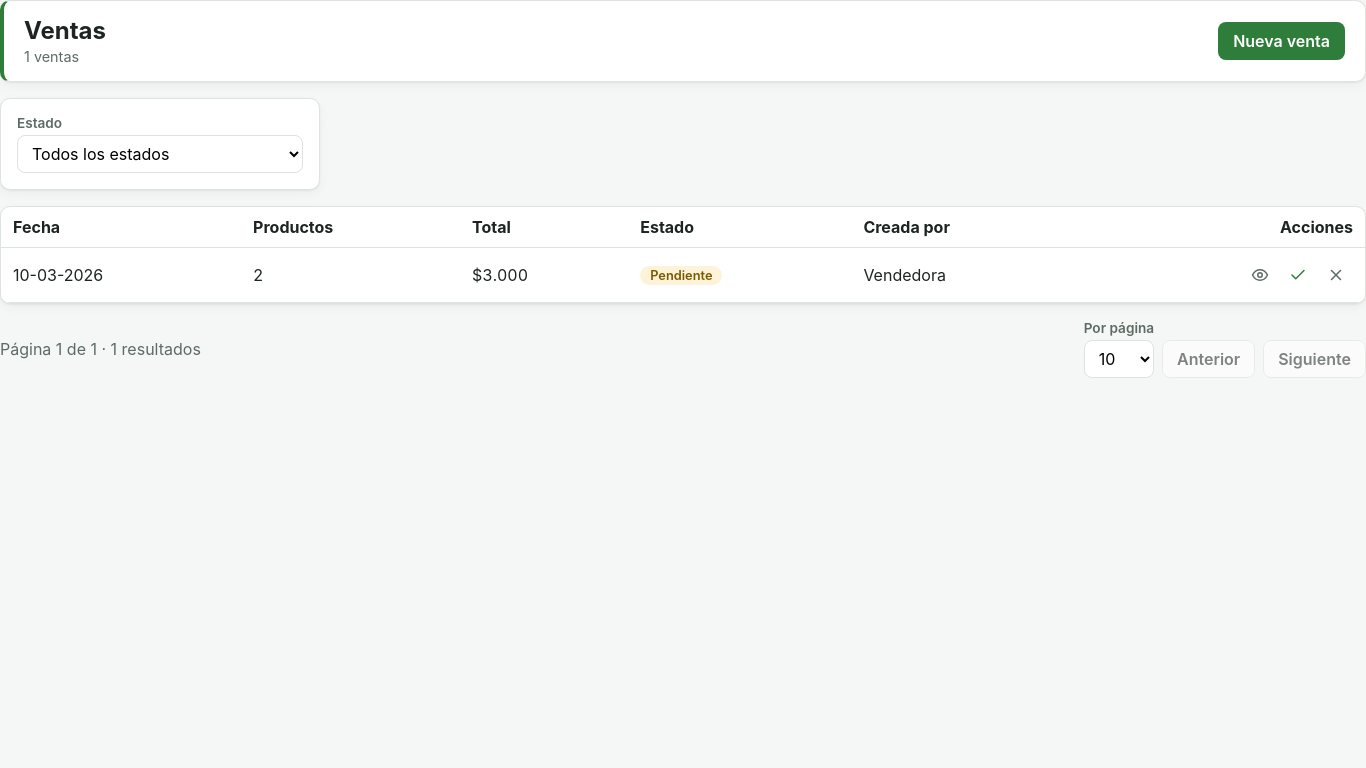
it: SalesPage › keeps the popup open and explains the error when the sale cannot be completed
This screenshot has width=1366, height=768.
Click the button named "Completar venta" at (1298, 275), box 1281,258 -> 1315,292
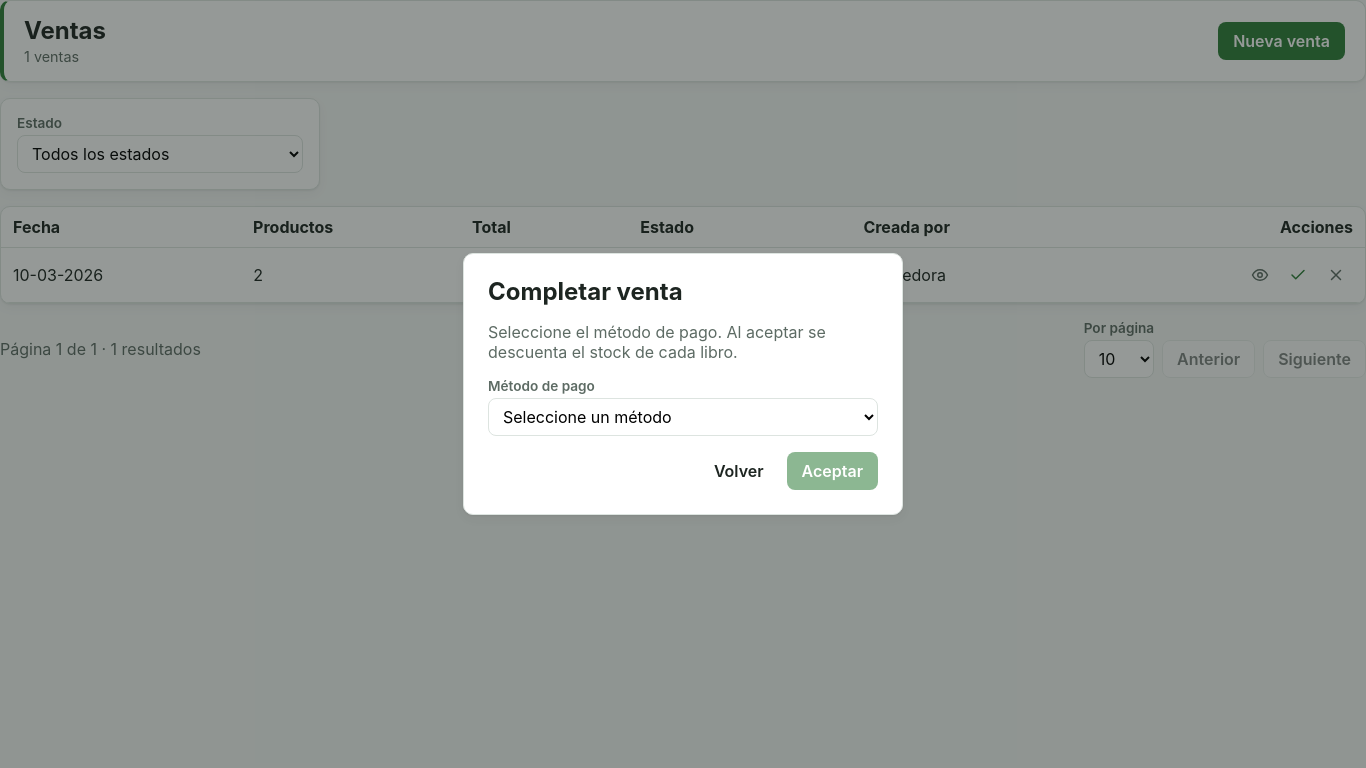
Select "Efectivo" in the dropdown labelled "Método de pago" at (683, 417), box 488,398 -> 878,436
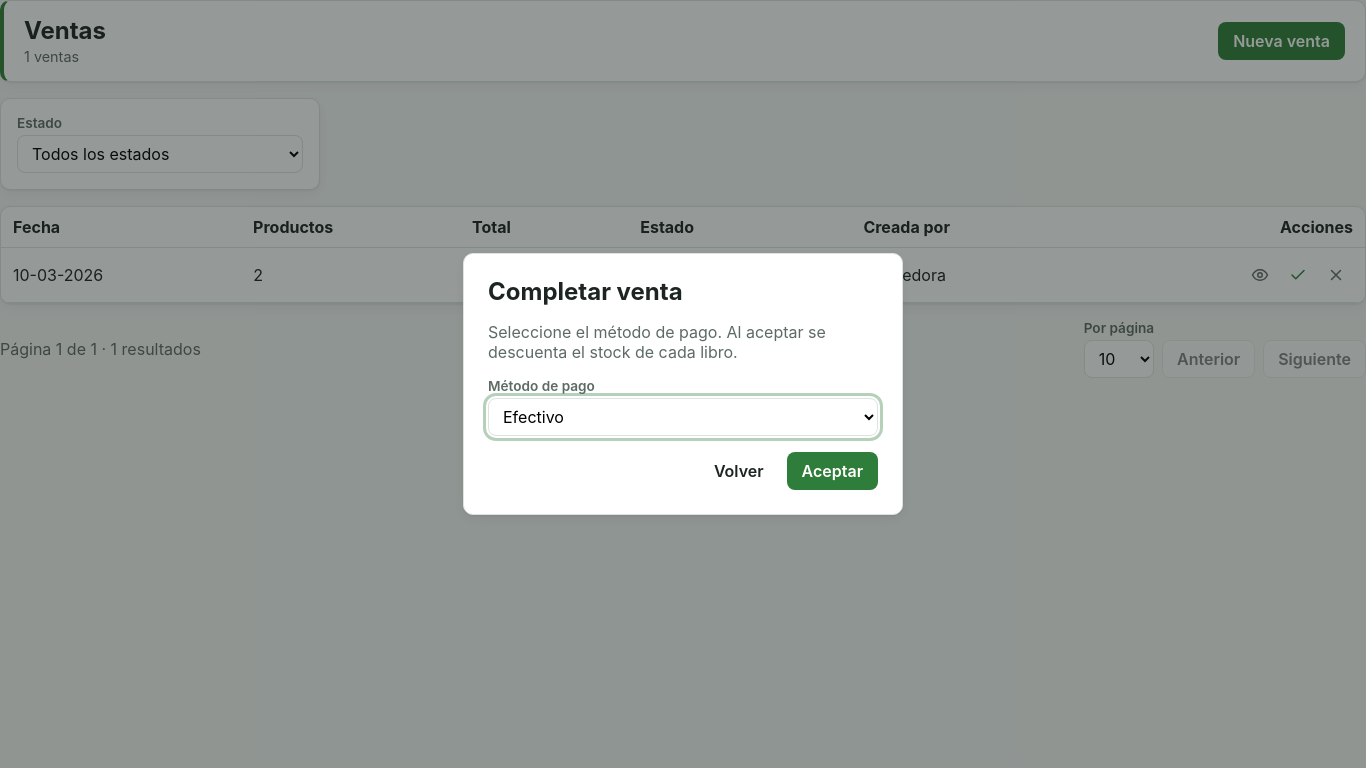
Click the button "Aceptar" at (832, 471), box 787,452 -> 878,490
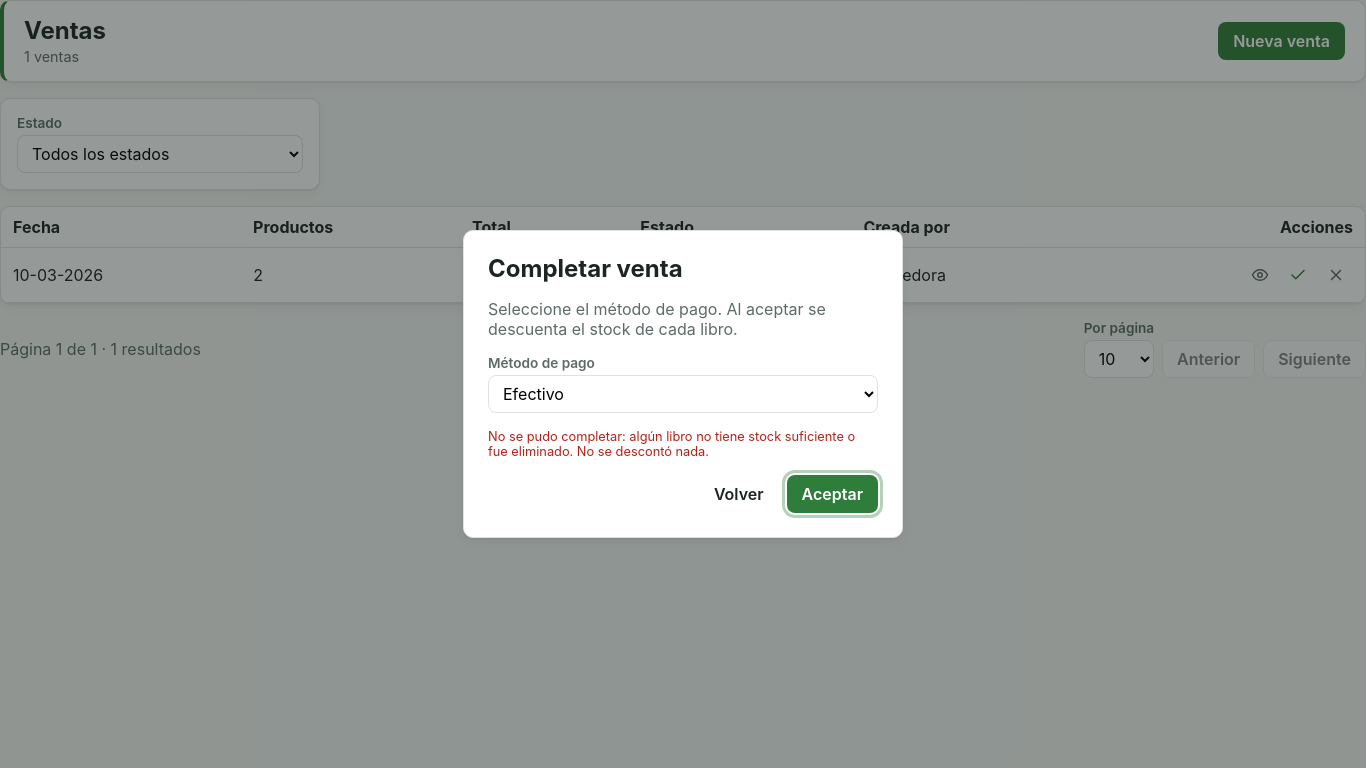
Now the message shows "No se descontó nada", box 488,429 -> 855,459
